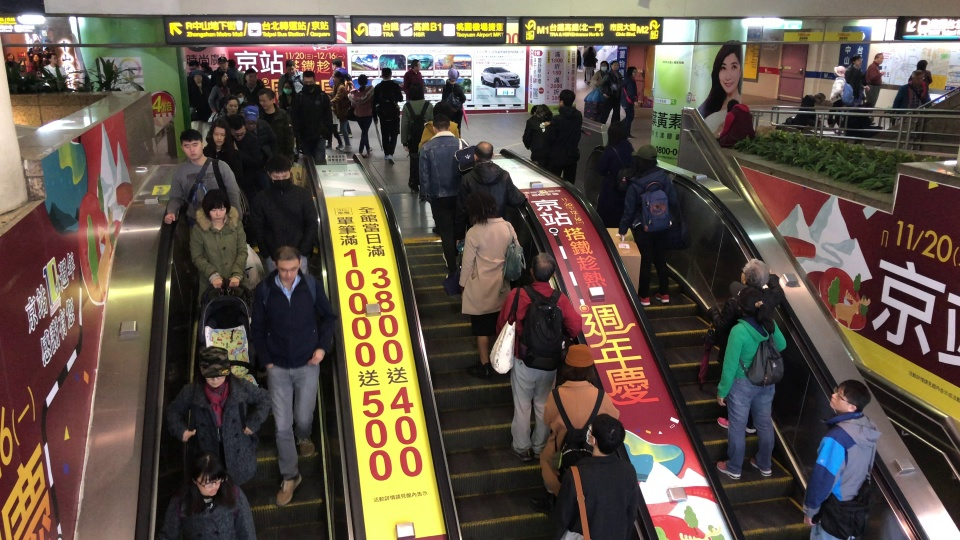person_head: (585, 412, 626, 458), (190, 449, 225, 497), (828, 378, 871, 414), (561, 343, 597, 385), (197, 345, 230, 388), (272, 244, 302, 282), (464, 190, 497, 224), (265, 153, 292, 191), (276, 60, 303, 98), (739, 257, 770, 290), (201, 188, 230, 223), (735, 285, 765, 317), (531, 251, 556, 284), (179, 128, 204, 160), (631, 144, 658, 172), (205, 118, 231, 147), (606, 121, 628, 145), (228, 114, 246, 142), (432, 100, 453, 121), (473, 140, 493, 162), (257, 87, 276, 110), (242, 105, 259, 130), (432, 113, 451, 134), (557, 88, 575, 109), (222, 95, 239, 115), (301, 69, 316, 91), (407, 82, 424, 101), (530, 104, 544, 121), (911, 69, 925, 86), (725, 98, 740, 113), (244, 68, 257, 85), (357, 73, 368, 92), (284, 60, 297, 76), (215, 71, 228, 86), (832, 65, 846, 78), (282, 79, 294, 94), (234, 88, 245, 104), (190, 70, 203, 83), (624, 65, 637, 78), (850, 54, 862, 68), (332, 70, 343, 85), (199, 61, 212, 73), (380, 67, 392, 80), (447, 68, 459, 81), (813, 92, 825, 105), (217, 56, 228, 70), (187, 60, 200, 71), (873, 52, 884, 65), (410, 59, 420, 73), (331, 58, 342, 69), (609, 60, 620, 71), (48, 52, 58, 64), (916, 59, 928, 69), (5, 51, 15, 62), (599, 60, 609, 71), (227, 59, 236, 69), (32, 53, 40, 62), (327, 93, 333, 102), (587, 46, 593, 52)
person_vbox: (249, 244, 337, 508), (495, 251, 582, 462), (527, 343, 618, 516), (165, 345, 272, 489), (715, 285, 786, 481), (707, 257, 785, 435), (457, 190, 526, 380), (802, 377, 882, 540), (552, 412, 639, 540), (617, 143, 679, 306), (157, 449, 258, 540), (418, 113, 471, 281), (250, 153, 318, 276), (454, 140, 529, 247), (164, 128, 242, 225), (188, 188, 249, 310), (417, 100, 459, 235), (594, 121, 635, 227), (289, 69, 333, 165), (400, 82, 434, 192), (201, 118, 244, 195), (370, 67, 403, 165), (551, 87, 583, 187), (257, 87, 294, 158), (520, 103, 555, 174), (889, 69, 931, 127), (347, 74, 374, 159), (186, 69, 212, 150), (716, 97, 755, 149), (228, 114, 264, 170), (242, 105, 280, 158), (328, 58, 353, 138), (329, 70, 353, 153), (836, 104, 883, 145), (441, 67, 466, 140), (862, 52, 887, 125), (827, 65, 854, 130), (619, 64, 640, 140), (599, 60, 622, 127), (844, 53, 870, 109), (790, 91, 826, 128), (207, 71, 232, 115), (325, 93, 344, 150), (210, 56, 239, 90), (402, 59, 425, 100), (908, 58, 932, 97), (240, 68, 265, 105), (276, 79, 298, 113), (40, 52, 66, 79), (590, 60, 611, 91), (582, 46, 596, 84), (226, 59, 244, 86), (27, 53, 46, 77), (3, 51, 21, 73)
